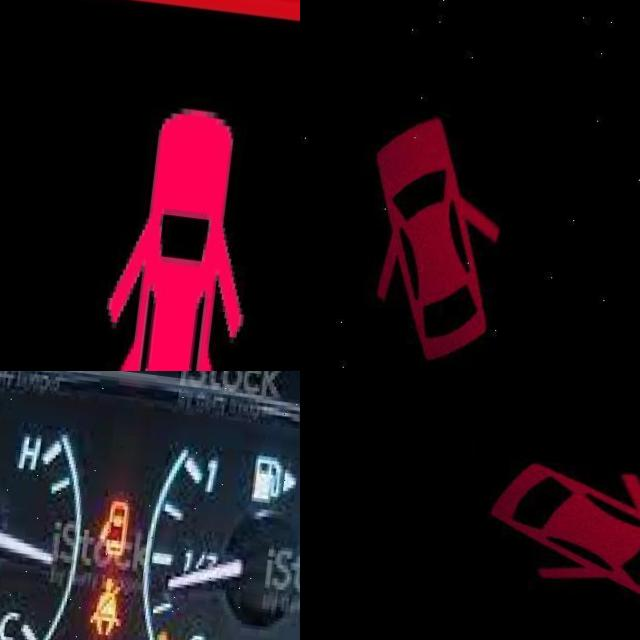Seat Belt: (98, 562, 135, 633)
